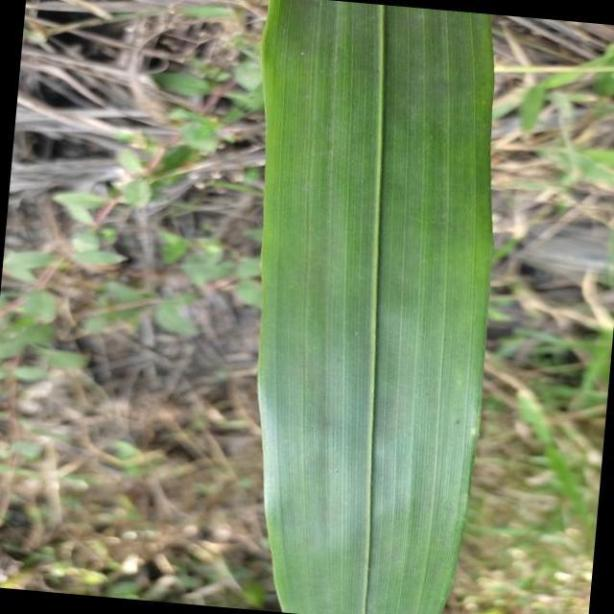Healthy: (255, 3, 497, 614)
